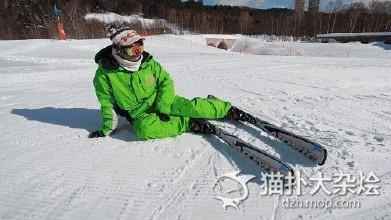Fall-Detected: (76, 20, 242, 144)
